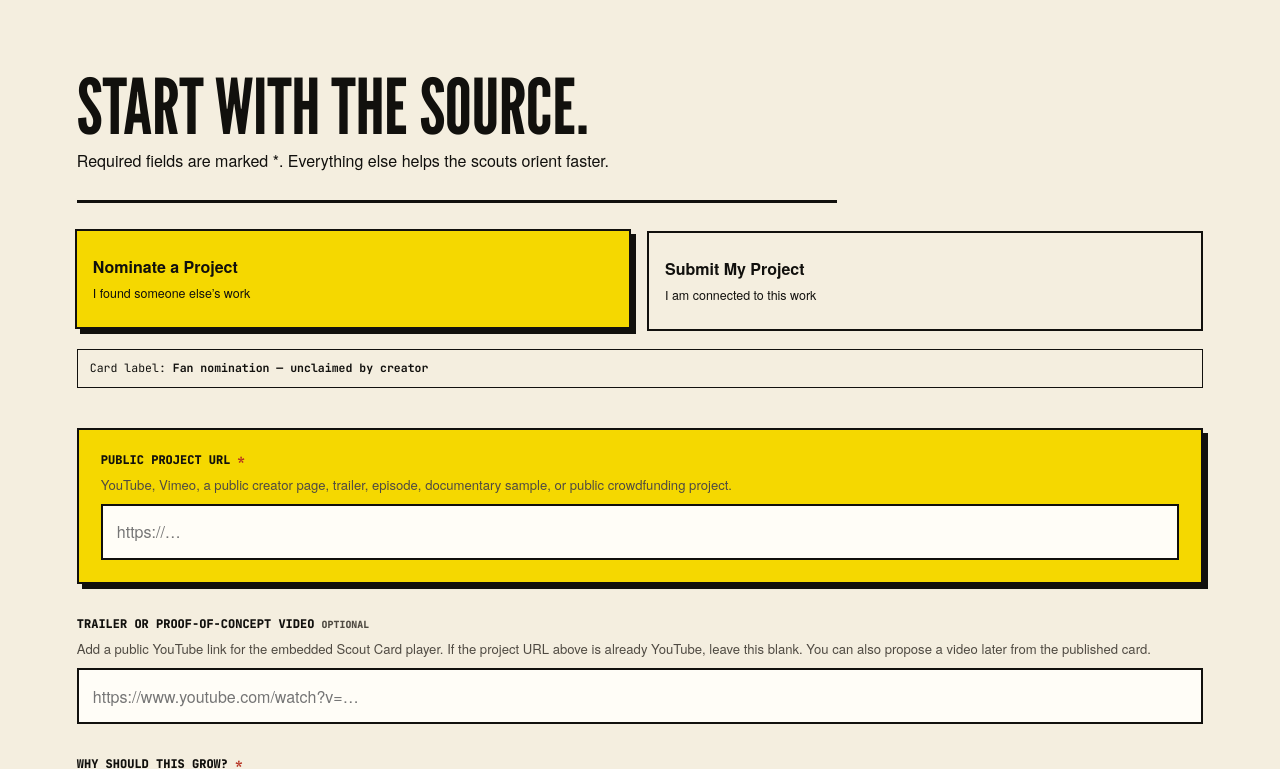
Test: NominationForm › accepts a separate YouTube player alongside a campaign URL
The image size is (1280, 769).
Type "https://www.kickstarter.com/projects/teamto/junichiro-live" into the field labelled "Public project URL *" at [640, 532], box [101,504,1179,560]
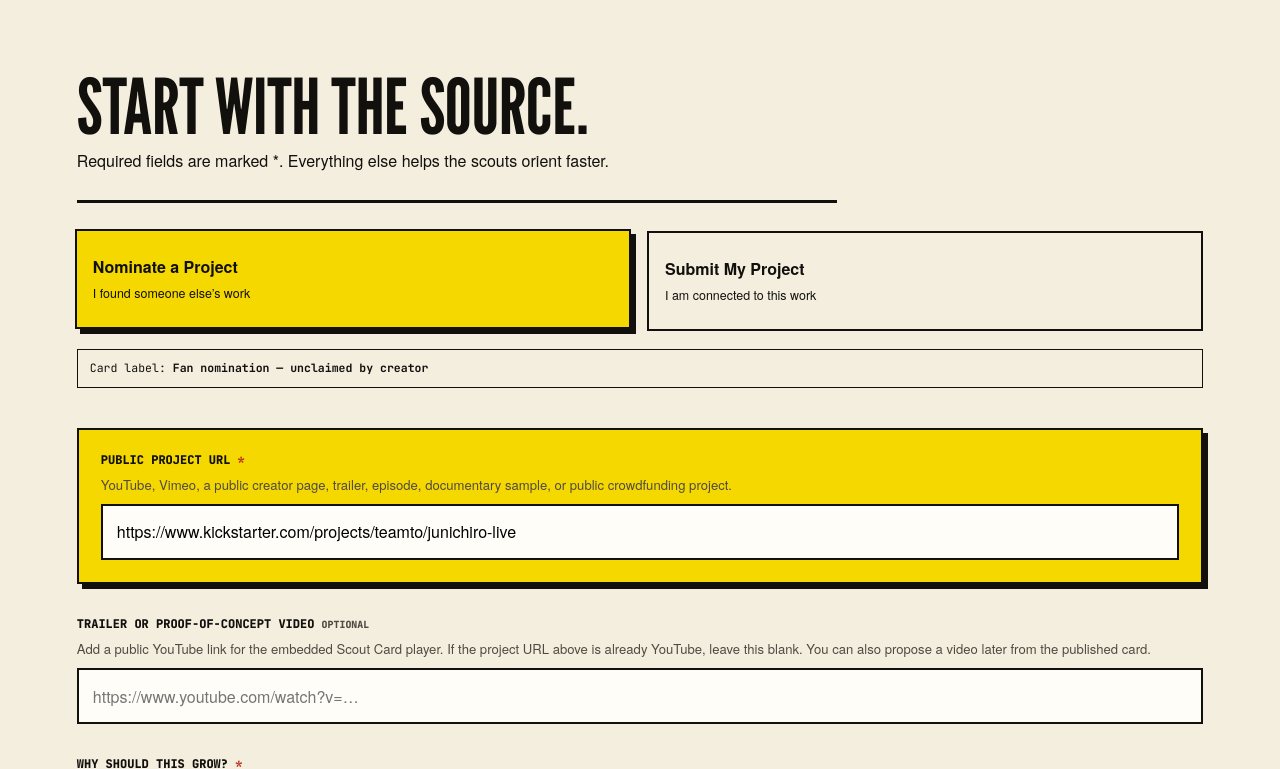
Type "https://youtu.be/s8G7425lfKs" into the field labelled "Trailer or proof-of-concept video Optional" at [640, 696], box [77,668,1203,724]
(page scrolled)
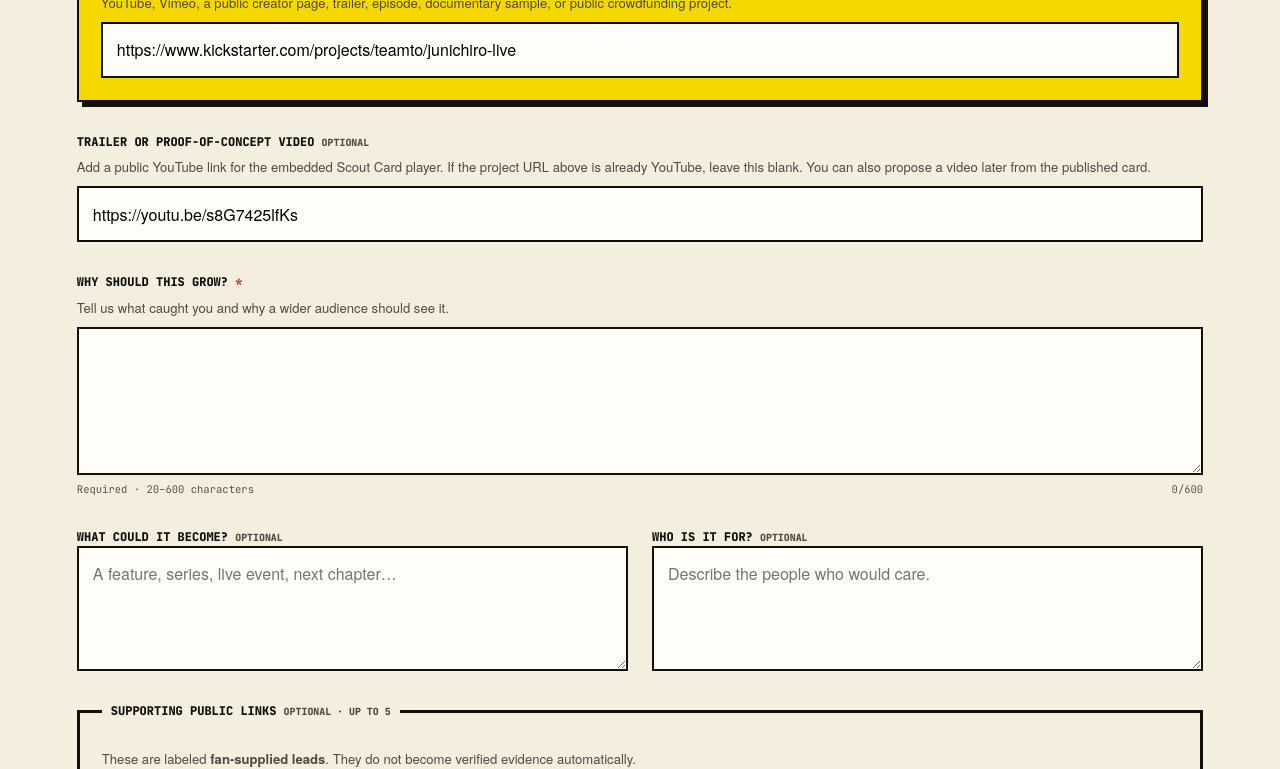
Type "The campaign and video show a distinctive animated project." into the text box labelled "Why should this grow? *" at [640, 401], box [77,327,1203,475]
(page scrolled)
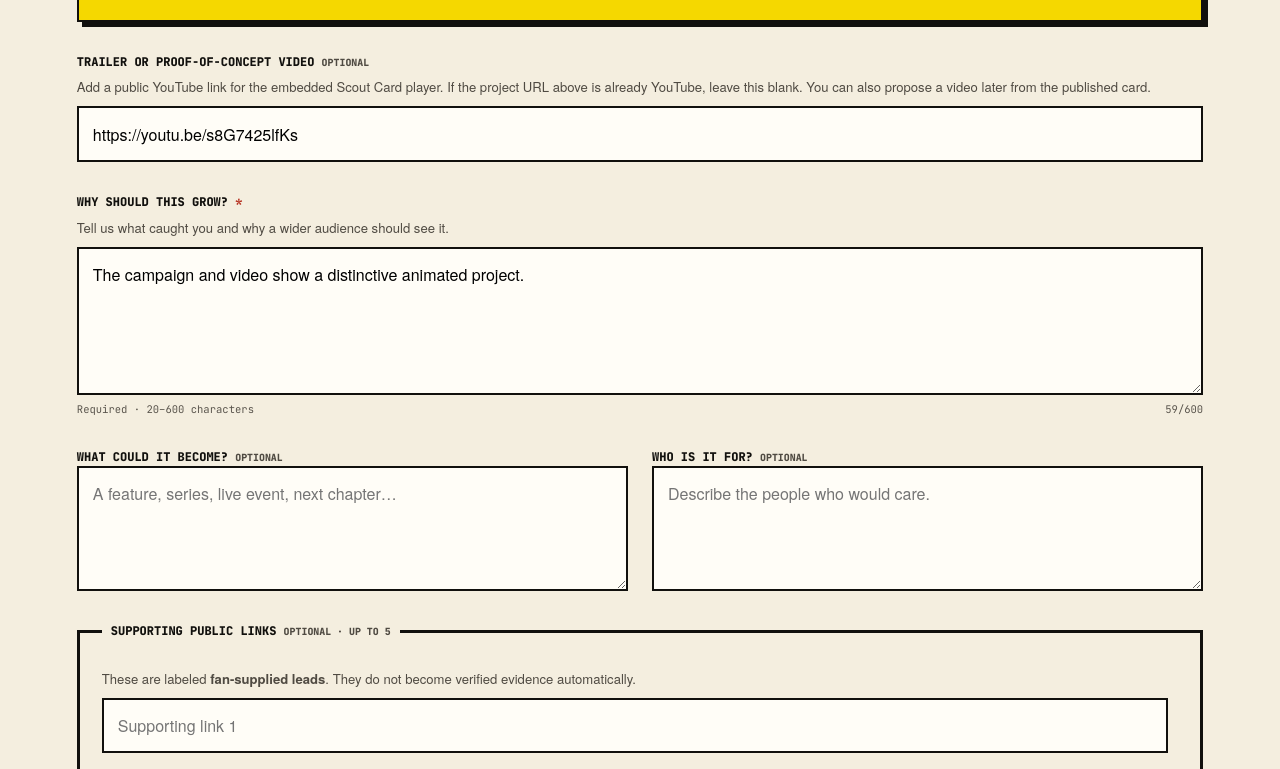
Submit the form named "Review nomination"
(page scrolled)
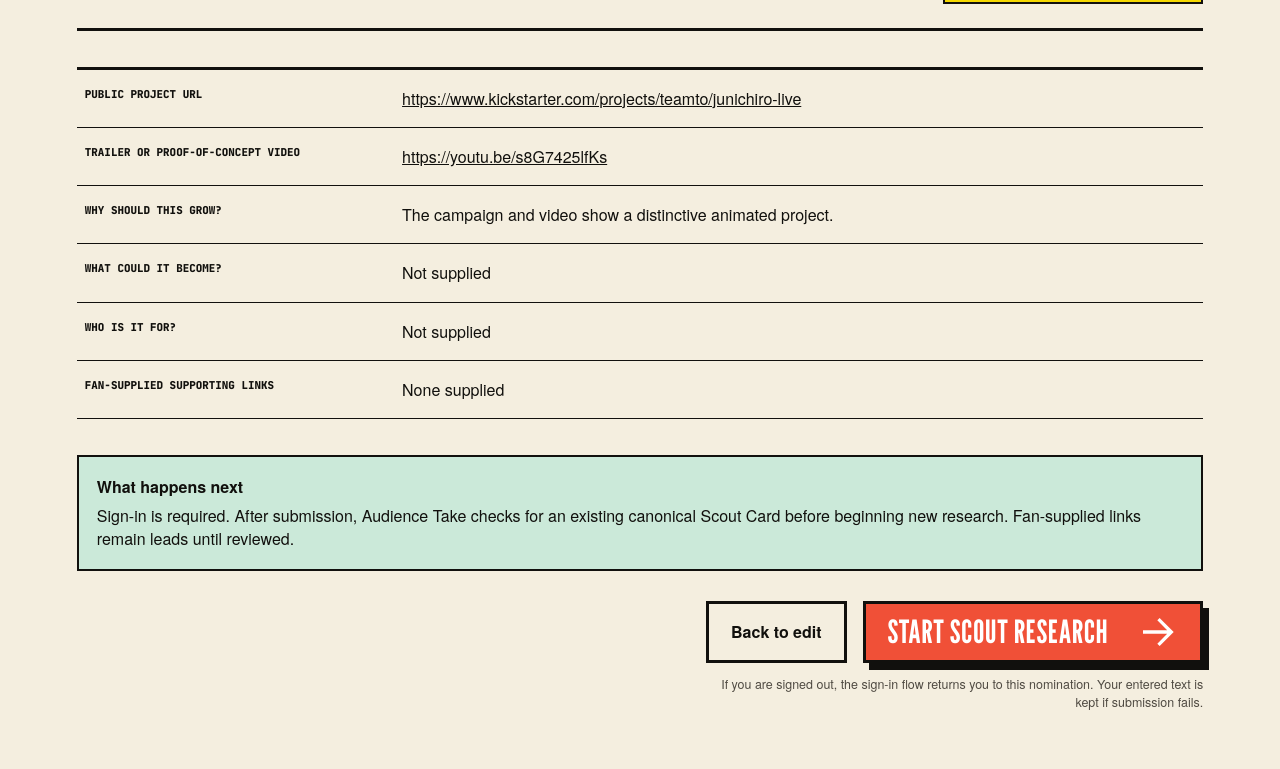
Now the link "https://www.kickstarter.com/projects/teamto/junichiro-live" is shown, box [402,87,801,110]
Now the link "https://youtu.be/s8G7425lfKs" is shown, box [402,145,607,168]
